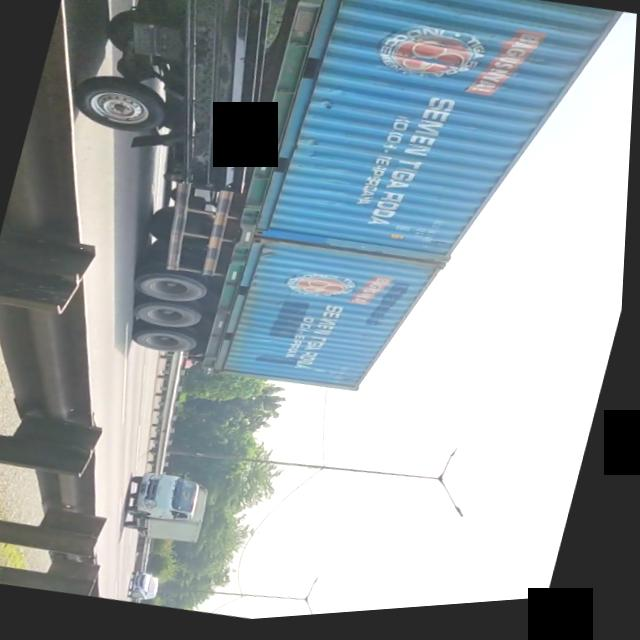Golongan I: (118, 464, 224, 553)
